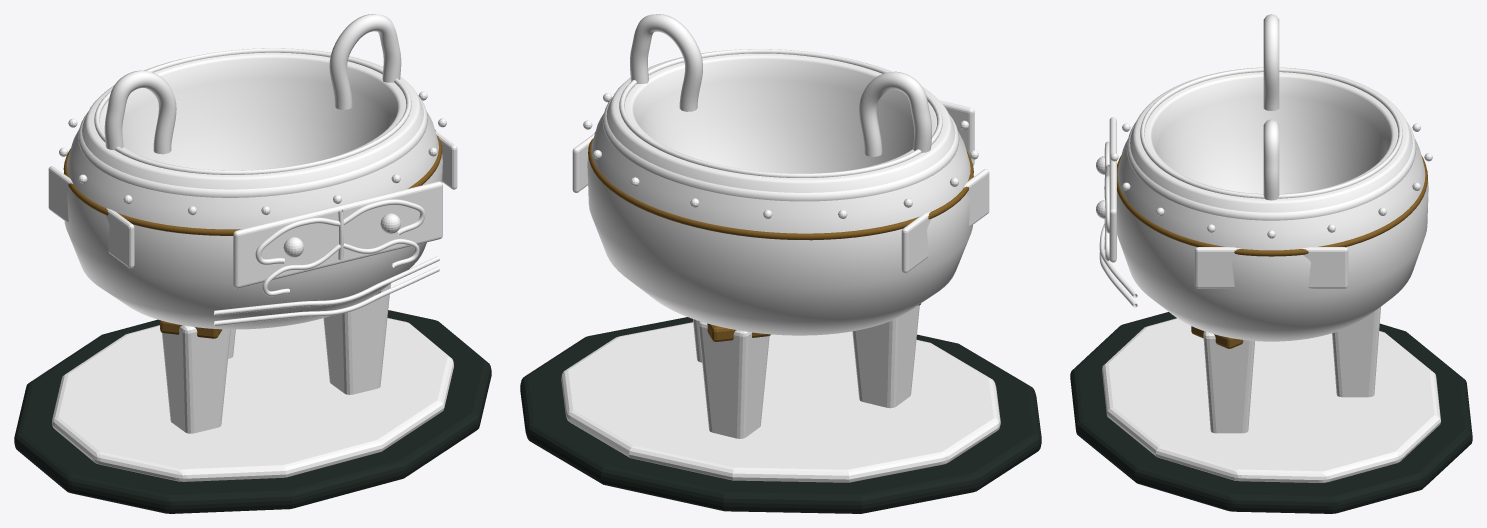
Rendered from heluo-bronze-ding-v3.glb.
3 views of the same model, side by side, from view 1: azimuth 30°, elevation 25°; view 2: azimuth 150°, elevation 25°; view 3: azimuth 270°, elevation 25° (orthographic). The views are drawn at different scales.
Visible parts, largest first — view 1: Refined_Ding_Body, Pedestal_Upper, Pedestal_Lower, Front_Ritual_Relief_Panel, Ritual_Square_Leg_2, Ritual_Square_Leg_3, Upper_dark_band, Upper_gold_band, Left_Ceremonial_Ear, Right_Ceremonial_Ear, Side_Relief_Panel_-1, Lower_gold_band (+7 smaller); view 2: Refined_Ding_Body, Pedestal_Upper, Pedestal_Lower, Ritual_Square_Leg_1, Ritual_Square_Leg_2, Upper_dark_band, Upper_gold_band, Left_Ceremonial_Ear, Right_Ceremonial_Ear, Lower_gold_band, Side_Relief_Panel_-1, Front_Ritual_Relief_Panel (+1 smaller); view 3: Refined_Ding_Body, Pedestal_Upper, Pedestal_Lower, Ritual_Square_Leg_3, Side_Relief_Panel_1, Ritual_Square_Leg_1, Upper_gold_band, Upper_dark_band, Lower_gold_band, Left_Ceremonial_Ear, Right_Ceremonial_Ear, Front_Ritual_Relief_Panel.
Part boxes in pixels (x1,y1,x2,y2): Refined_Ding_Body: (63, 50, 442, 329); Pedestal_Upper: (52, 318, 453, 481); Pedestal_Lower: (14, 310, 491, 513); Front_Ritual_Relief_Panel: (233, 181, 442, 288); Ritual_Square_Leg_2: (162, 325, 230, 433); Ritual_Square_Leg_3: (323, 283, 390, 394); Upper_dark_band: (78, 95, 427, 197); Upper_gold_band: (94, 48, 411, 174); Left_Ceremonial_Ear: (104, 70, 176, 154); Right_Ceremonial_Ear: (329, 14, 401, 109); Side_Relief_Panel_-1: (48, 166, 134, 268); Lower_gold_band: (63, 130, 442, 235); Refined_Ding_Body: (587, 51, 973, 335); Pedestal_Upper: (561, 322, 1000, 482); Pedestal_Lower: (520, 317, 1041, 513); Ritual_Square_Leg_1: (698, 321, 769, 438); Ritual_Square_Leg_2: (852, 305, 919, 408); Upper_dark_band: (602, 97, 959, 201); Upper_gold_band: (619, 49, 942, 177); Left_Ceremonial_Ear: (859, 71, 931, 156); Right_Ceremonial_Ear: (630, 14, 702, 111); Lower_gold_band: (588, 132, 973, 240); Side_Relief_Panel_-1: (901, 169, 989, 273); Front_Ritual_Relief_Panel: (939, 100, 974, 165); Refined_Ding_Body: (1117, 67, 1428, 341); Pedestal_Upper: (1102, 318, 1440, 482); Pedestal_Lower: (1070, 312, 1472, 513); Ritual_Square_Leg_3: (1203, 331, 1254, 433); Side_Relief_Panel_1: (1194, 247, 1348, 288); Ritual_Square_Leg_1: (1332, 307, 1380, 397); Upper_gold_band: (1140, 67, 1402, 198); Upper_dark_band: (1126, 122, 1416, 220); Lower_gold_band: (1117, 155, 1427, 256); Left_Ceremonial_Ear: (1263, 14, 1279, 110); Right_Ceremonial_Ear: (1263, 119, 1279, 200); Front_Ritual_Relief_Panel: (1109, 117, 1116, 262).
Size of the model in its own units: 3.57 by 2.86 by 3.02.
